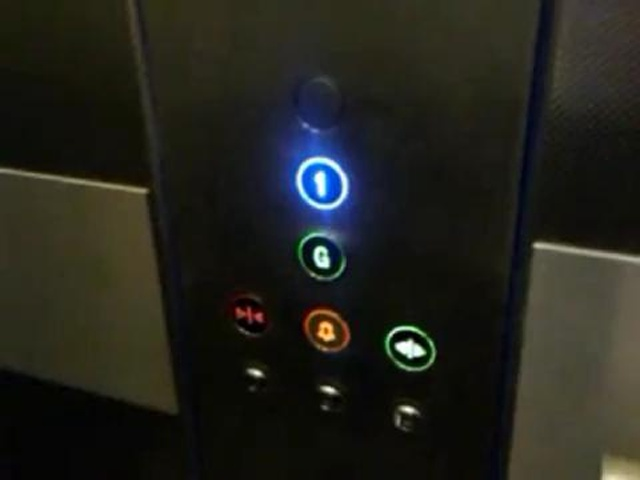1: (295, 154, 351, 211)
G: (297, 226, 350, 282)
alarm: (301, 306, 351, 355)
close: (225, 292, 271, 335)
empty: (289, 69, 347, 134)
indicator: (386, 398, 423, 435), (311, 381, 348, 415), (237, 360, 272, 395)
open: (384, 324, 436, 374)
